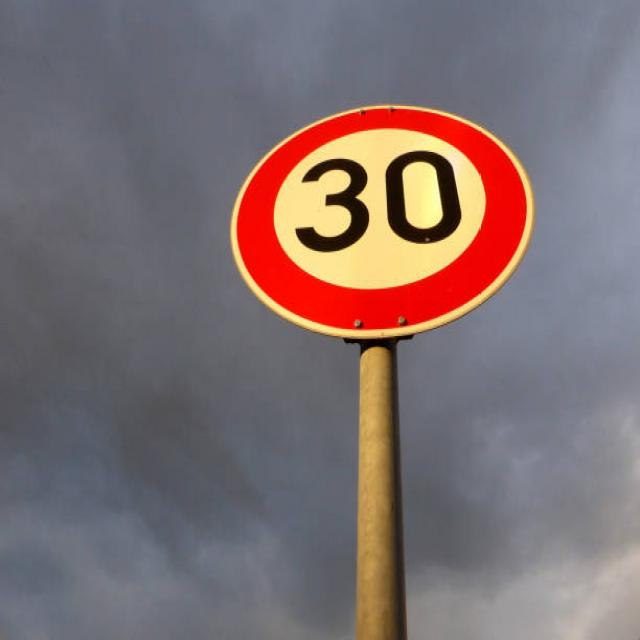speed_limit_30: (228, 91, 556, 365)
